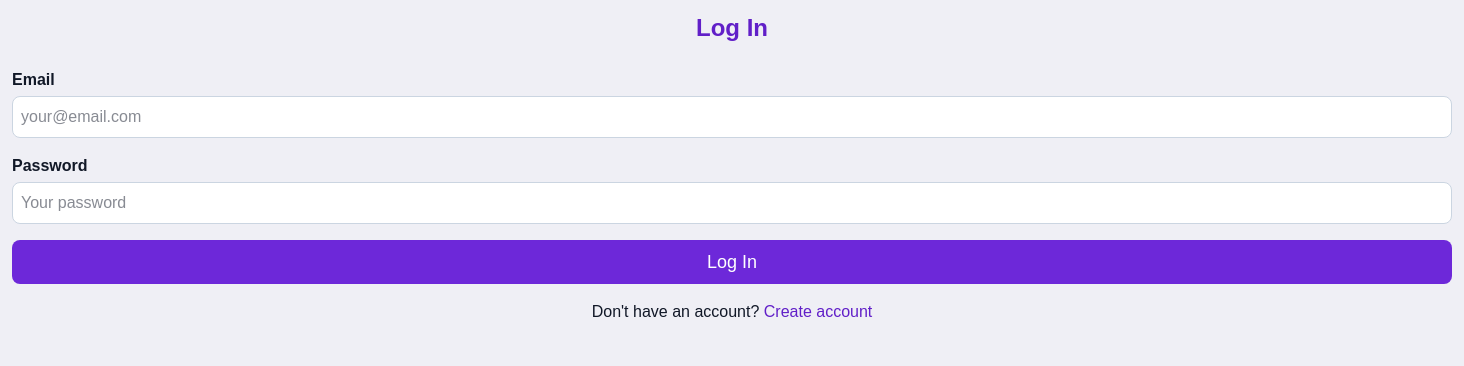
Test: AuthForm › shows validation error for invalid email
Step 1. Type "invalid" into the field labelled "Email" → (732, 117), box [12,96,1452,138]
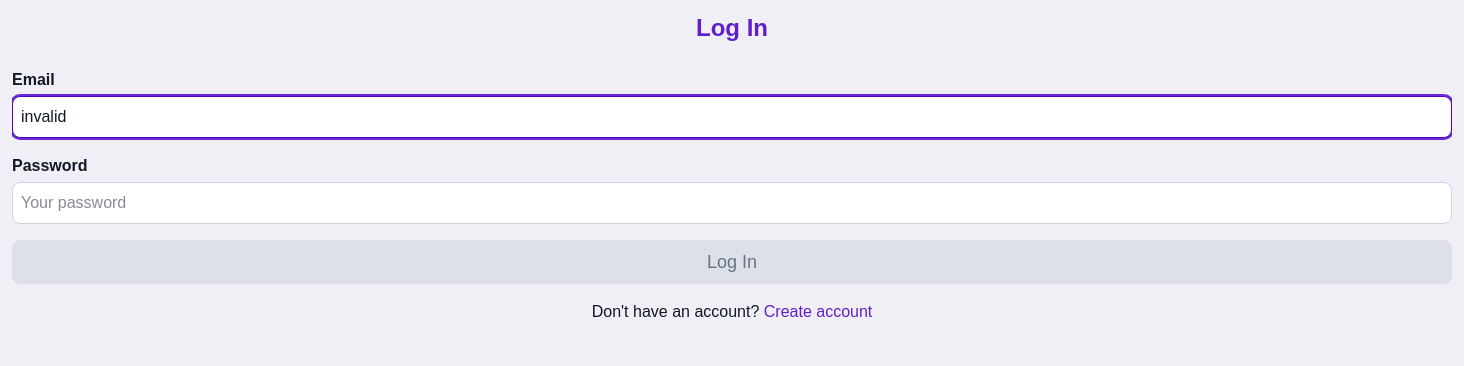
Step 2. Press Tab
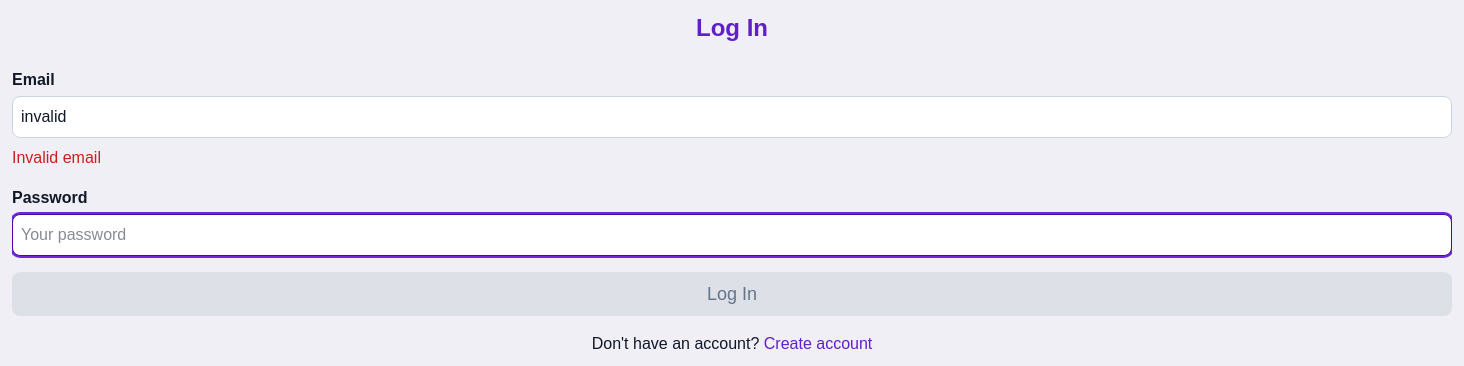
Now the text "Invalid email" is shown, box [12,149,101,166]
